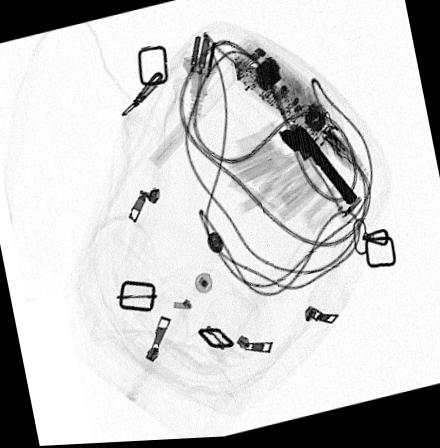Gun: (278, 128, 359, 210)
